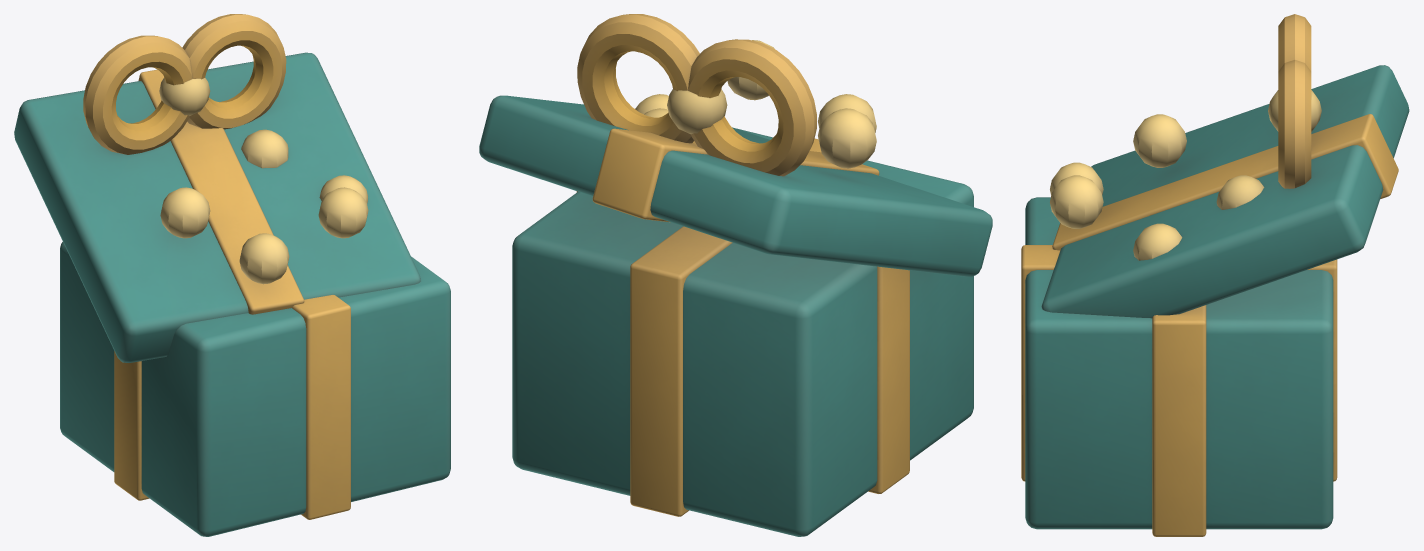
File: GiftBox.fbx
The picture shows the model from 3 angles, left to right: view 1: azimuth 30°, elevation 25°; view 2: azimuth 150°, elevation 25°; view 3: azimuth 270°, elevation 25°; orthographic projection. The views are drawn at different scales.
Visible parts, largest first — view 1: GiftBox; view 2: GiftBox; view 3: GiftBox.
Part boxes in pixels (x1,y1,x2,y2): GiftBox: (14, 14, 450, 536); GiftBox: (479, 14, 992, 536); GiftBox: (1021, 14, 1409, 536).
Bounding box in the file's own units: 98.14 × 120 × 101.
